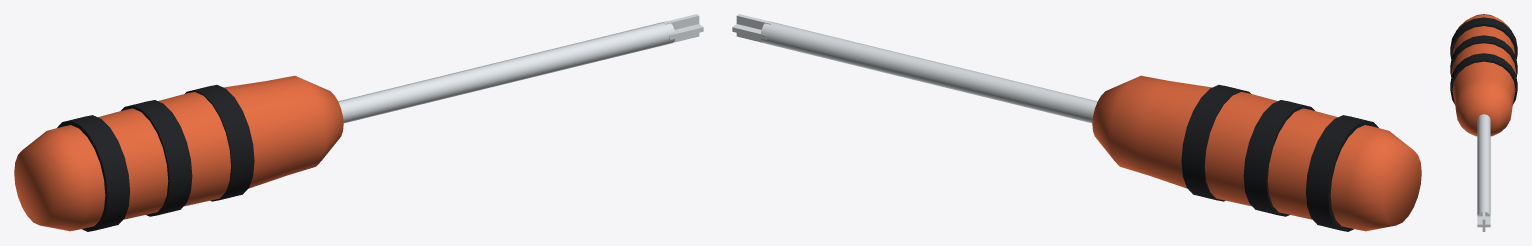
File: screwdriver.glb
The picture shows the model from 3 angles, left to right: view 1: azimuth 30°, elevation 25°; view 2: azimuth 150°, elevation 25°; view 3: azimuth 270°, elevation 25°; orthographic projection. The views are drawn at different scales.
Visible parts, largest first — view 1: orangePlastic, blackPlastic, chrome; view 2: orangePlastic, blackPlastic, chrome; view 3: orangePlastic, blackPlastic, chrome.
Part boxes in pixels (bbox=[...]): orangePlastic: bbox=[14, 75, 343, 231]; blackPlastic: bbox=[57, 85, 254, 231]; chrome: bbox=[338, 14, 703, 123]; orangePlastic: bbox=[1092, 75, 1421, 231]; blackPlastic: bbox=[1181, 85, 1378, 231]; chrome: bbox=[732, 14, 1097, 123]; orangePlastic: bbox=[1451, 14, 1516, 136]; blackPlastic: bbox=[1450, 17, 1517, 104]; chrome: bbox=[1477, 114, 1490, 231].
Bounding box in the file's own units: 0.235 × 0.035 × 0.035.
